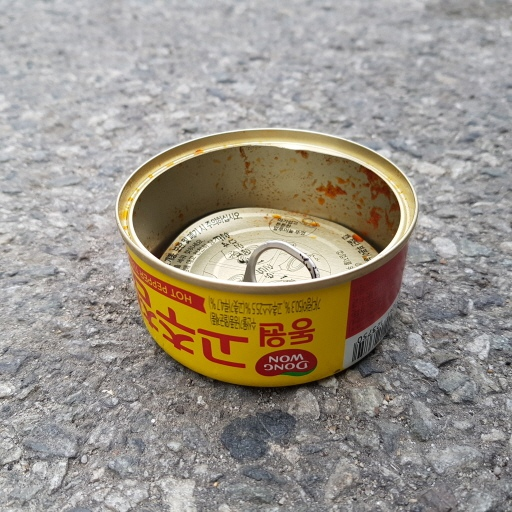Metal_1: (113, 124, 421, 388)
